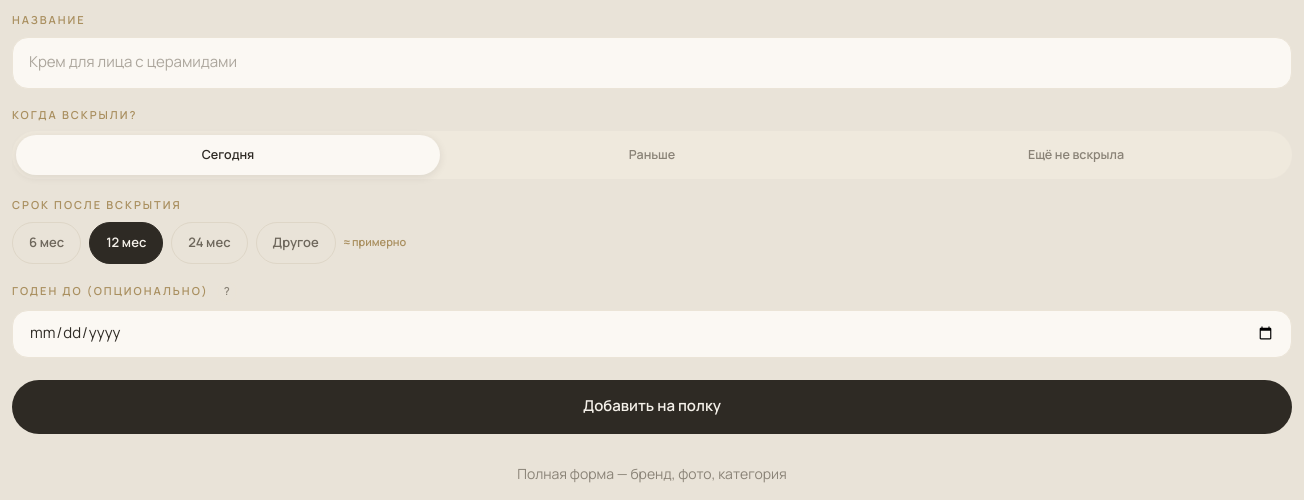
AddManualTab › запечатанное без «Годен до» не сохраняется
Type "Крем про запас" into the field named "Название средства". click: (652,62)
box: [12, 36, 1292, 88]
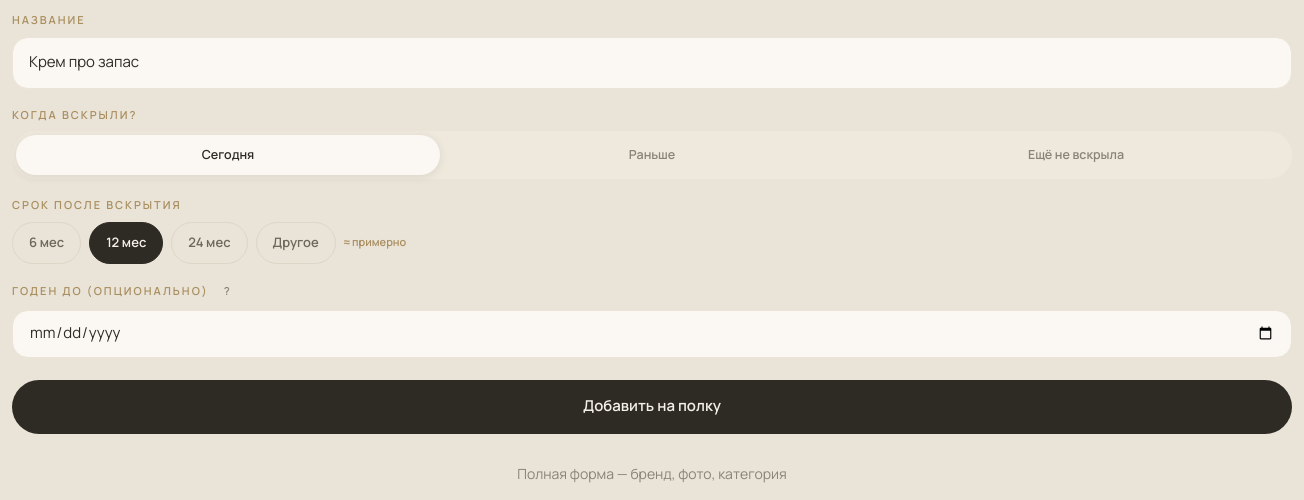
Click the tab "Ещё не вскрыла". click: (1076,155)
box: [864, 135, 1288, 175]
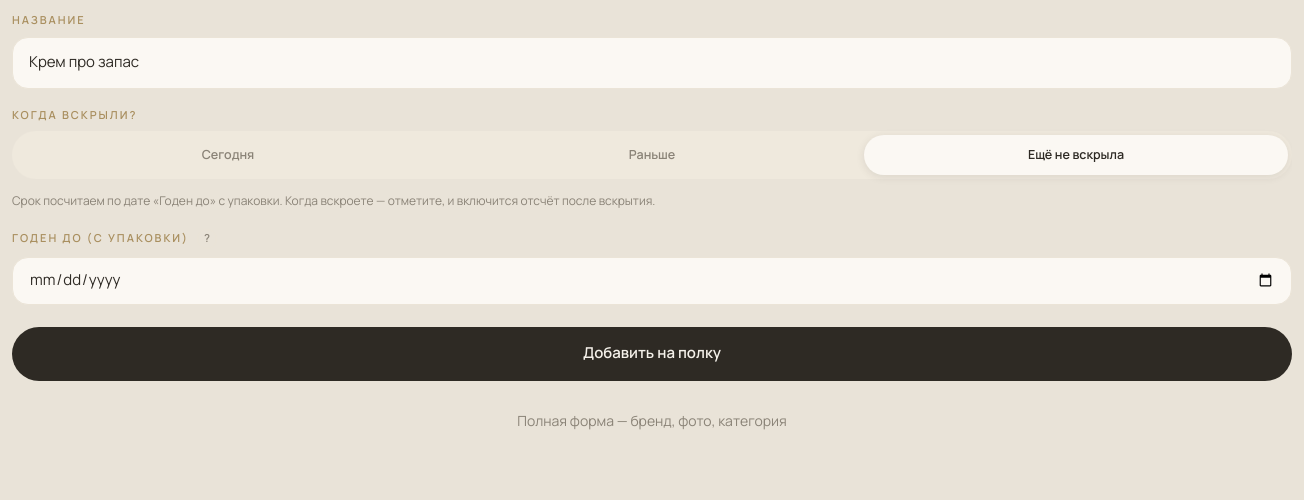
Click the button "Добавить на полку". click: (652,354)
box: [12, 326, 1292, 380]
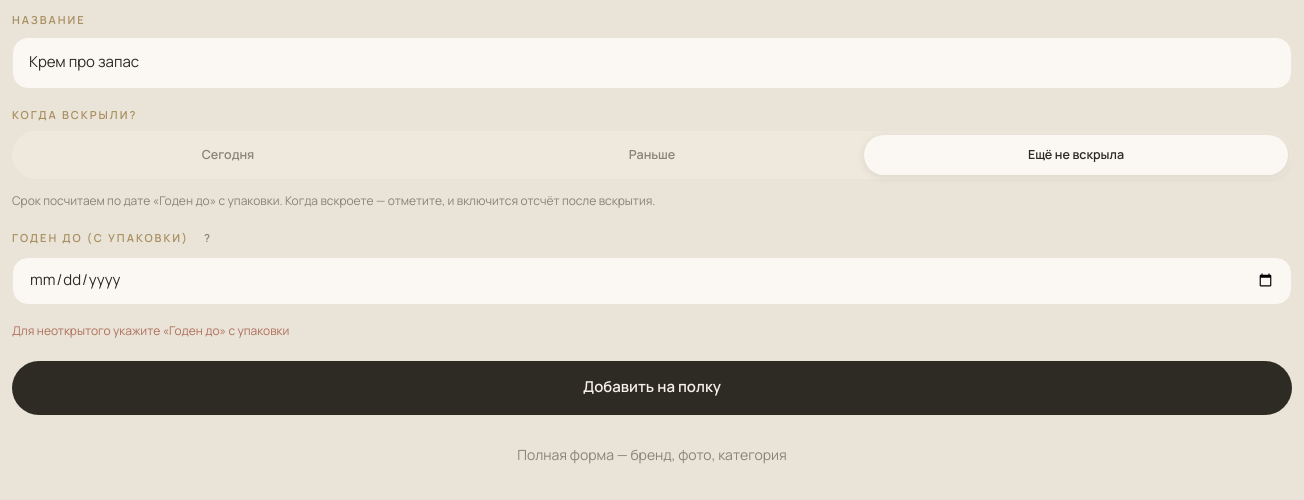
Result: the text "Для неоткрытого укажите «Годен до» с упаковки" is shown at [12, 322, 289, 338]
